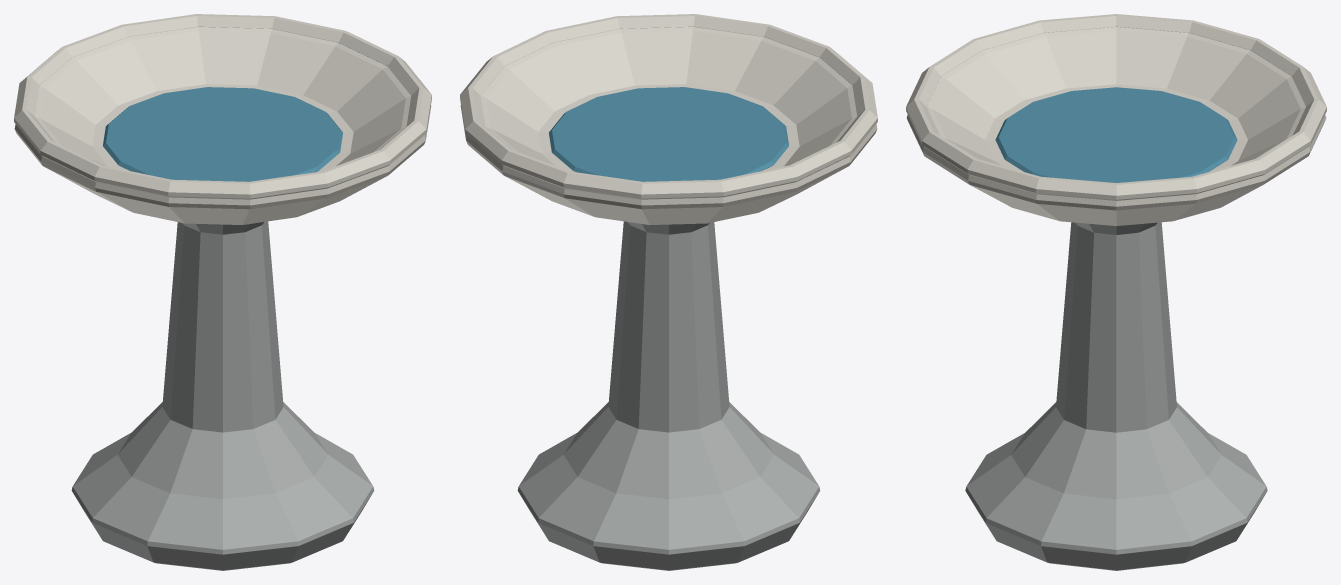
Rendered from b11_pedestal_bird_bath.glb.
3 views of the same model, side by side, from view 1: azimuth 30°, elevation 25°; view 2: azimuth 150°, elevation 25°; view 3: azimuth 270°, elevation 25° (orthographic).
Visible parts, largest first — view 1: b11_pedestal_bird_bath; view 2: b11_pedestal_bird_bath; view 3: b11_pedestal_bird_bath.
Part boxes in pixels (bbox=[...]): b11_pedestal_bird_bath: bbox=[14, 14, 431, 570]; b11_pedestal_bird_bath: bbox=[460, 14, 877, 570]; b11_pedestal_bird_bath: bbox=[906, 14, 1326, 570].
Bounding box in the file's own units: 0.7994 × 0.8697 × 0.7994.
